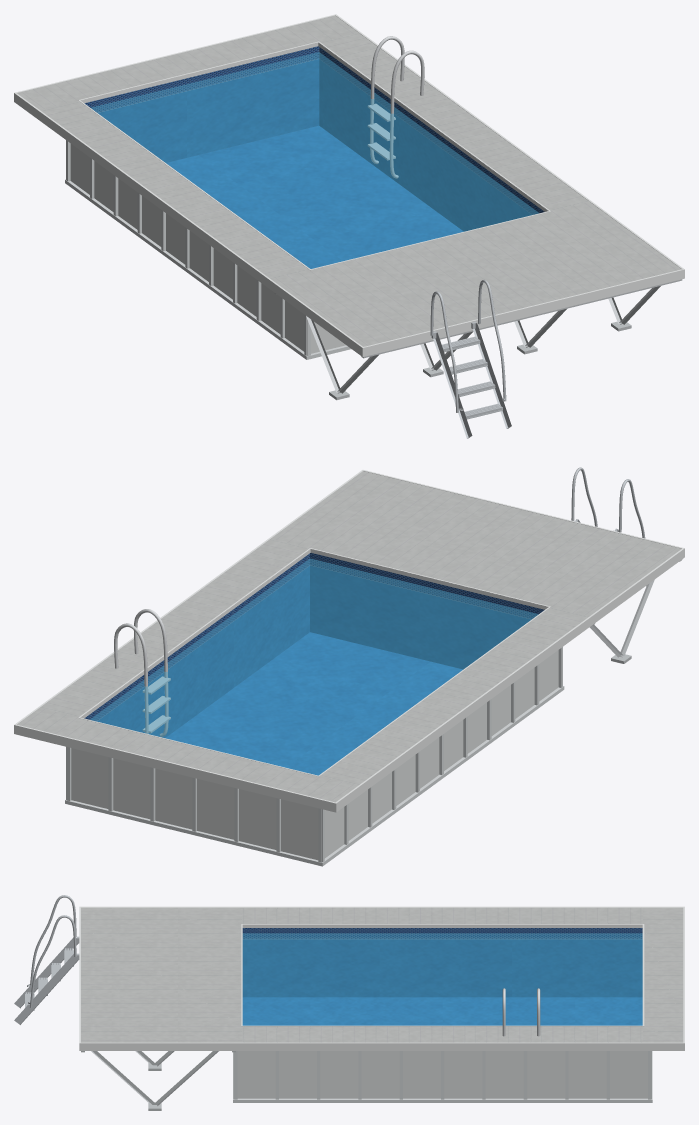
The model's file is kayak-pool-12x20-white-end-ag-nofence.19003fb5c2.glb.
3 renders of one model, top to bottom at view 1: azimuth 30°, elevation 25°; view 2: azimuth 150°, elevation 25°; view 3: azimuth 270°, elevation 25°, orthographic. The views are drawn at different scales.
Visible parts, largest first — view 1: deck, water, liner_wall, liner_floor, fascia, wall, upright, ladder, stud, steel; view 2: deck, water, liner_wall, liner_floor, wall, fascia, upright, steel, stud, ladder; view 3: deck, water, liner_wall, wall, liner_floor, fascia, upright, ladder, stud, steel.
Boxes of the visible parts, left/top/right/bottom form: deck: left=17, top=15, right=681, bottom=346; water: left=91, top=52, right=538, bottom=268; liner_wall: left=84, top=46, right=544, bottom=231; liner_floor: left=166, top=126, right=463, bottom=268; fascia: left=14, top=14, right=684, bottom=356; wall: left=70, top=144, right=345, bottom=353; upright: left=65, top=140, right=351, bottom=359; ladder: left=430, top=279, right=511, bottom=438; stud: left=274, top=279, right=682, bottom=400; steel: left=367, top=36, right=424, bottom=178; deck: left=17, top=471, right=681, bottom=802; water: left=90, top=558, right=538, bottom=775; liner_wall: left=84, top=553, right=544, bottom=737; liner_floor: left=166, top=632, right=462, bottom=775; wall: left=71, top=650, right=558, bottom=860; fascia: left=14, top=470, right=684, bottom=812; upright: left=65, top=647, right=564, bottom=866; steel: left=114, top=609, right=170, bottom=736; stud: left=589, top=559, right=682, bottom=663; ladder: left=571, top=467, right=646, bottom=586; deck: left=81, top=907, right=683, bottom=1042; water: left=242, top=933, right=642, bottom=1025; liner_wall: left=242, top=928, right=642, bottom=997; wall: left=237, top=1051, right=647, bottom=1098; liner_floor: left=242, top=997, right=642, bottom=1025; fascia: left=79, top=906, right=684, bottom=1050; upright: left=233, top=1051, right=652, bottom=1102; ladder: left=14, top=895, right=79, bottom=1024; stud: left=81, top=1051, right=235, bottom=1110; steel: left=502, top=988, right=540, bottom=1036.
Size of the model in its own units: 4.88 by 1.9 by 10.13.
10 materials, 3 textured.
